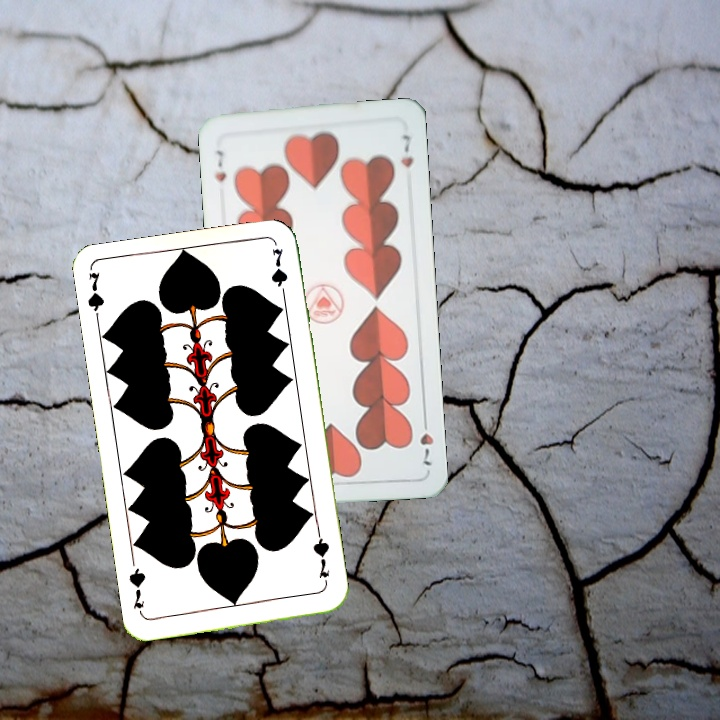G7: (309, 530, 333, 589), (84, 269, 107, 329)
H7: (416, 412, 436, 468), (210, 146, 229, 185)
